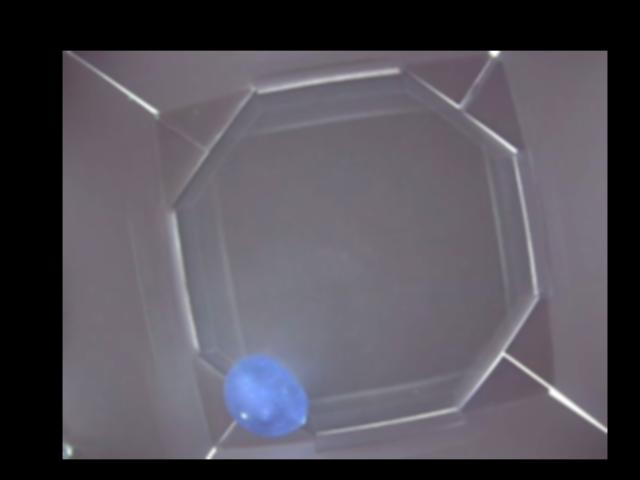Potato: (220, 353, 308, 434)
